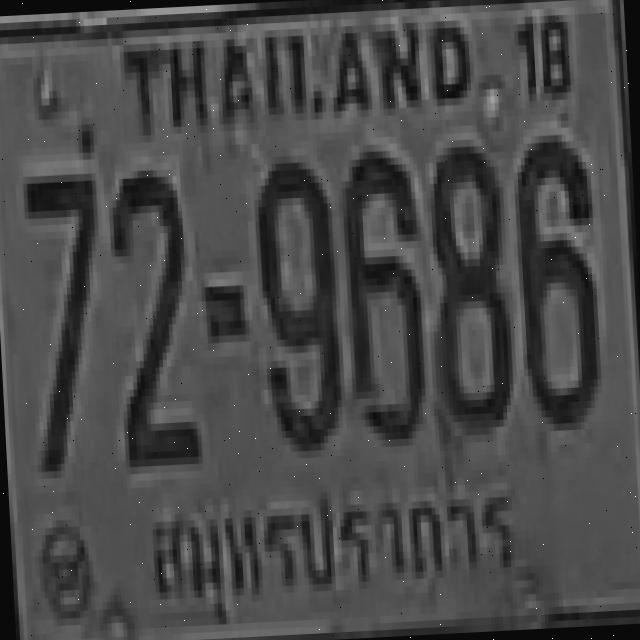2: (109, 162, 197, 460)
6: (336, 140, 424, 438), (512, 130, 600, 422)
7: (22, 163, 107, 469)
8: (424, 138, 512, 430)
9: (252, 154, 340, 446)
SamutPrakan: (142, 462, 528, 626)
